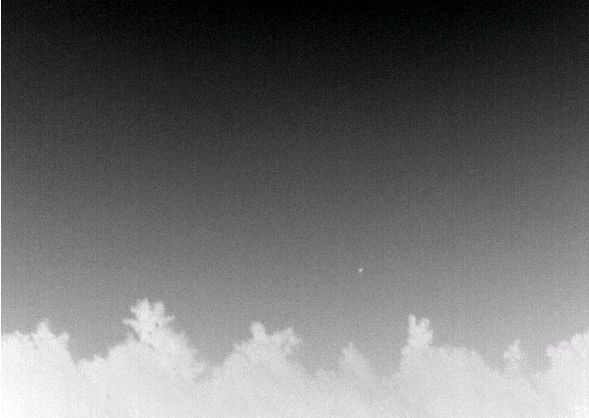dim target: (356, 266, 365, 274)
